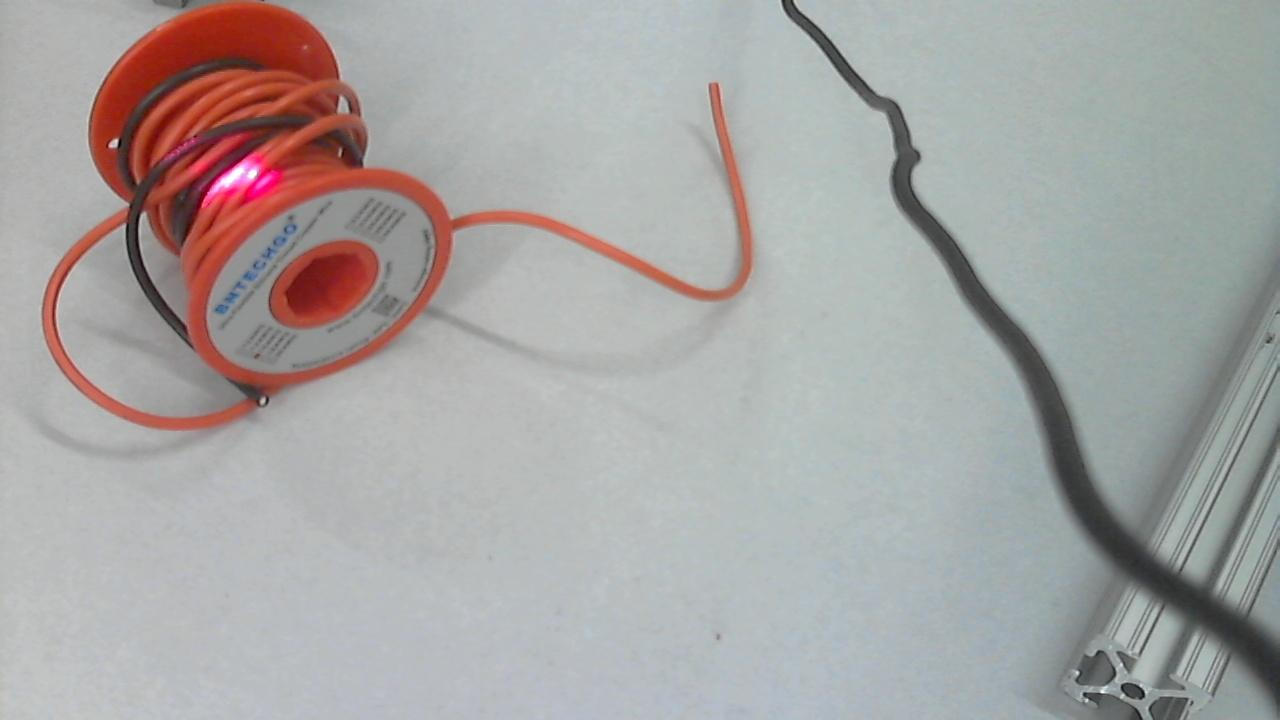Object wire spool - Material rubber - Color oranges - Pdfname ZryFz3DBSiO8: (190, 135, 301, 215)
